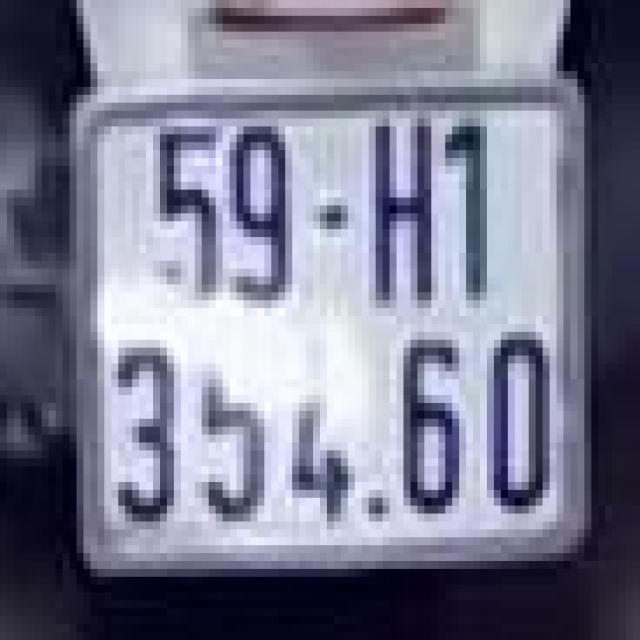0: (483, 312, 567, 526)
1: (435, 107, 504, 304)
3: (108, 328, 184, 541)
4: (271, 324, 362, 537)
5: (143, 115, 226, 320), (195, 328, 271, 533)
6: (393, 316, 470, 529)
9: (219, 111, 296, 324)
H: (358, 115, 442, 312)
